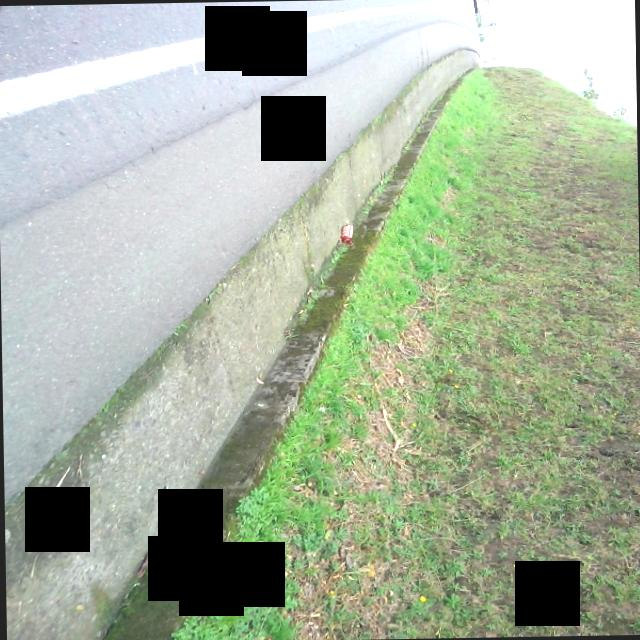DITCH: (0, 45, 493, 640)
